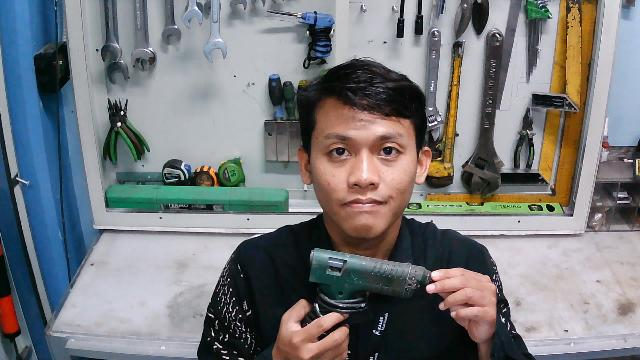gun_lem: (305, 242, 441, 334)
